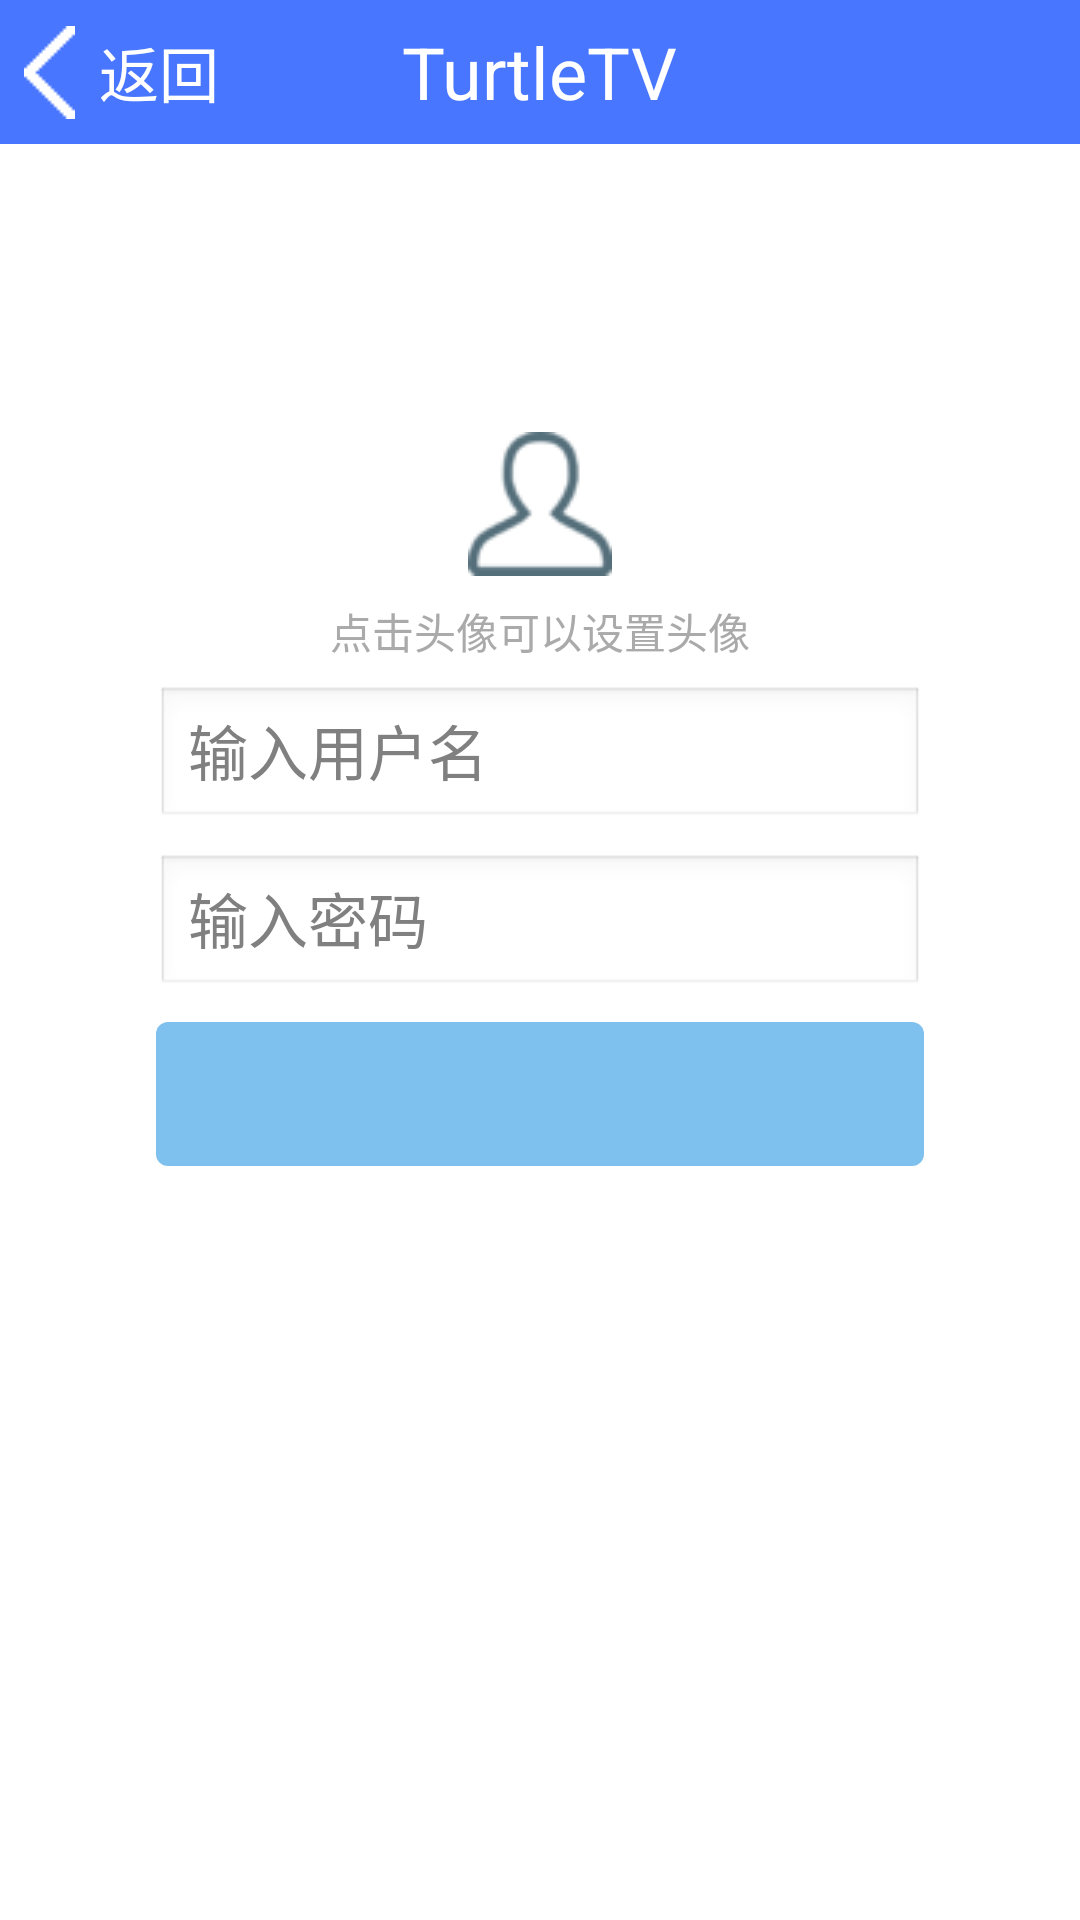

Where icons sit on this 1080x1920 app screen, as (x1, y1, x2, y2):
user def: (468, 432, 612, 576)
